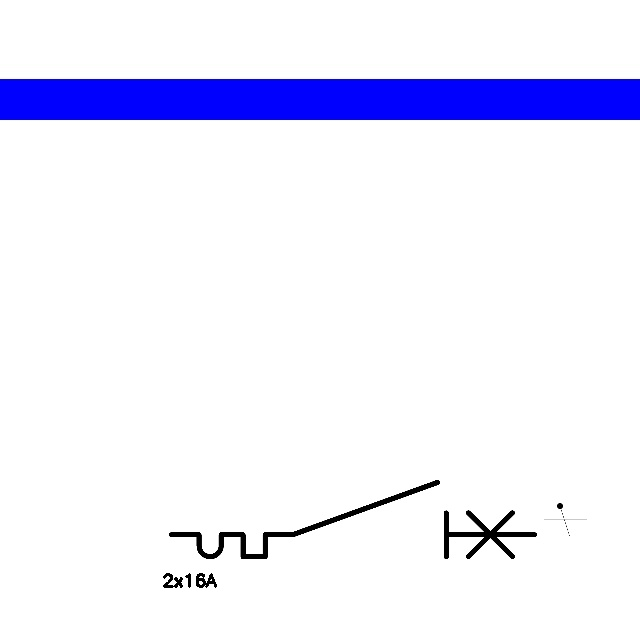interruptor_termomagnetico: (162, 473, 544, 566)
